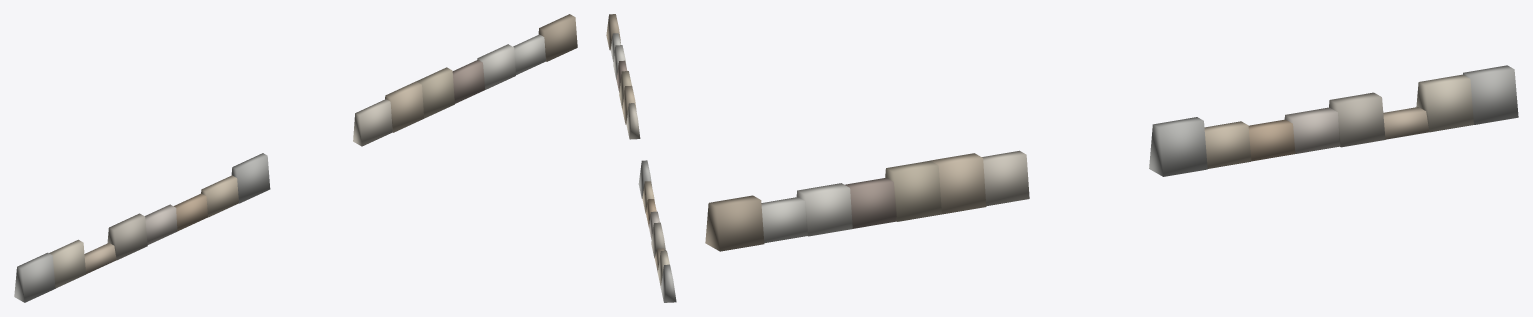
Rendered from farm_-18_-27_collision.glb.
The picture shows the model from 3 angles, left to right: view 1: azimuth 90°, elevation 25°; view 2: azimuth 150°, elevation 25°; view 3: azimuth 270°, elevation 25°; orthographic projection. The views are drawn at different scales.
Parts seen in each view (by area): view 1: geometry_0; view 2: geometry_0; view 3: geometry_0.
Part boxes in pixels (left/top/right/bottom): geometry_0: left=14, top=14, right=577, bottom=302; geometry_0: left=606, top=14, right=676, bottom=302; geometry_0: left=705, top=65, right=1518, bottom=251.
Size of the model in its own units: 17.61 by 5.04 by 23.31.
